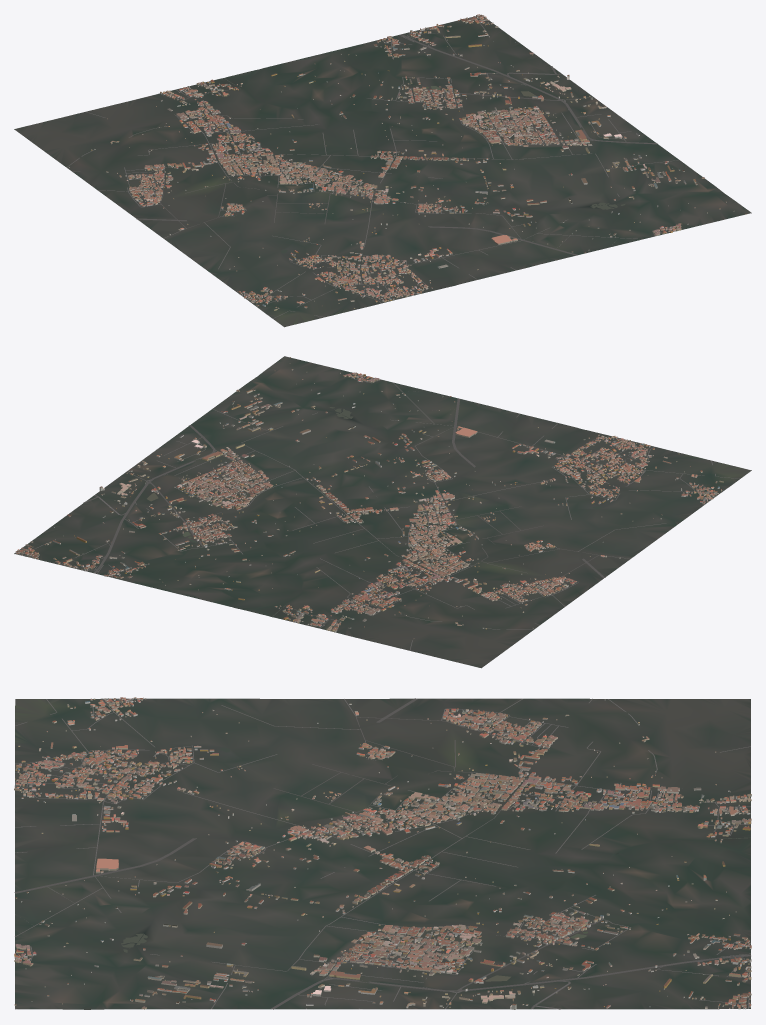
The picture shows the model from 3 angles, top to bottom: view 1: azimuth 30°, elevation 25°; view 2: azimuth 150°, elevation 25°; view 3: azimuth 270°, elevation 25°; orthographic projection. The views are drawn at different scales.
Visible parts, largest first — view 1: ground, buildings, roads; view 2: ground, buildings, roads; view 3: ground, buildings, roads, water.
Boxes of the visible parts, <box> form: ground: <box>14,14,751,327</box>; buildings: <box>69,14,746,310</box>; roads: <box>66,15,751,318</box>; ground: <box>14,356,751,668</box>; buildings: <box>15,357,723,639</box>; roads: <box>15,356,740,650</box>; ground: <box>15,698,750,1009</box>; buildings: <box>14,697,751,1009</box>; roads: <box>14,698,750,1009</box>; water: <box>15,747,750,981</box>.
Bounding box in the file's own units: 2810 × 25.57 × 2811.
